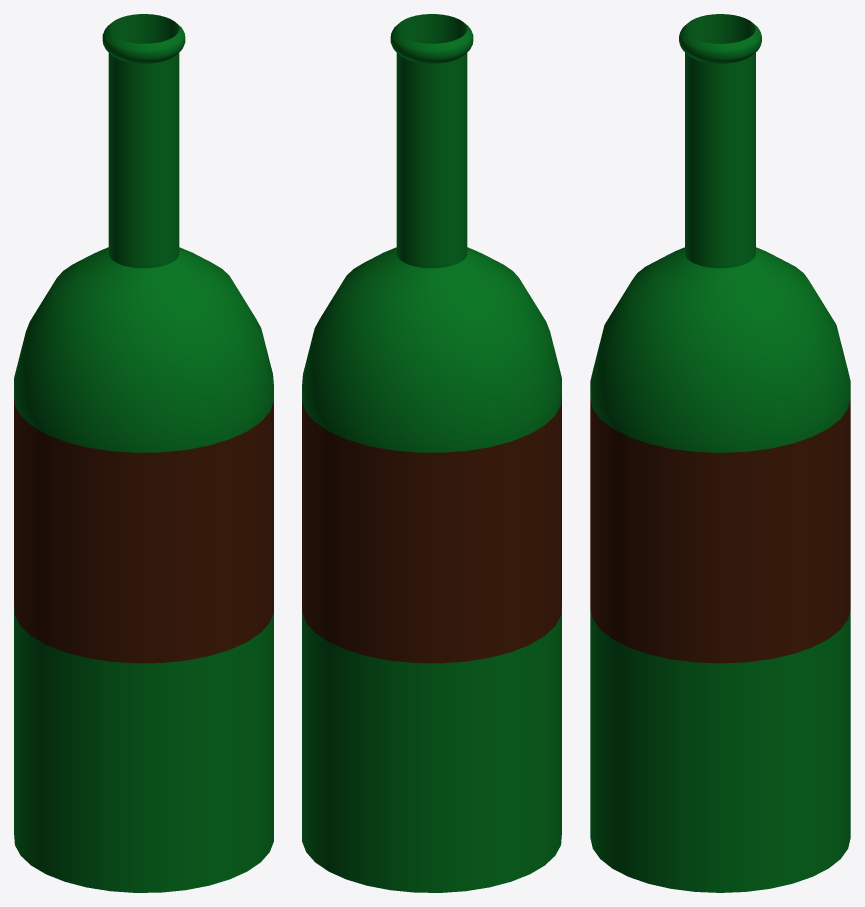
File: Bottle.fbx
3 renders of one model, left to right at view 1: azimuth 30°, elevation 25°; view 2: azimuth 150°, elevation 25°; view 3: azimuth 270°, elevation 25°, orthographic.
Parts seen in each view (by area): view 1: Bottle; view 2: Bottle; view 3: Bottle.
Boxes of the visible parts, <box> form: Bottle: <box>14,14,273,892</box>; Bottle: <box>302,14,561,892</box>; Bottle: <box>590,14,850,892</box>.
Size of the model in its own units: 21.11 by 72.37 by 21.11.
